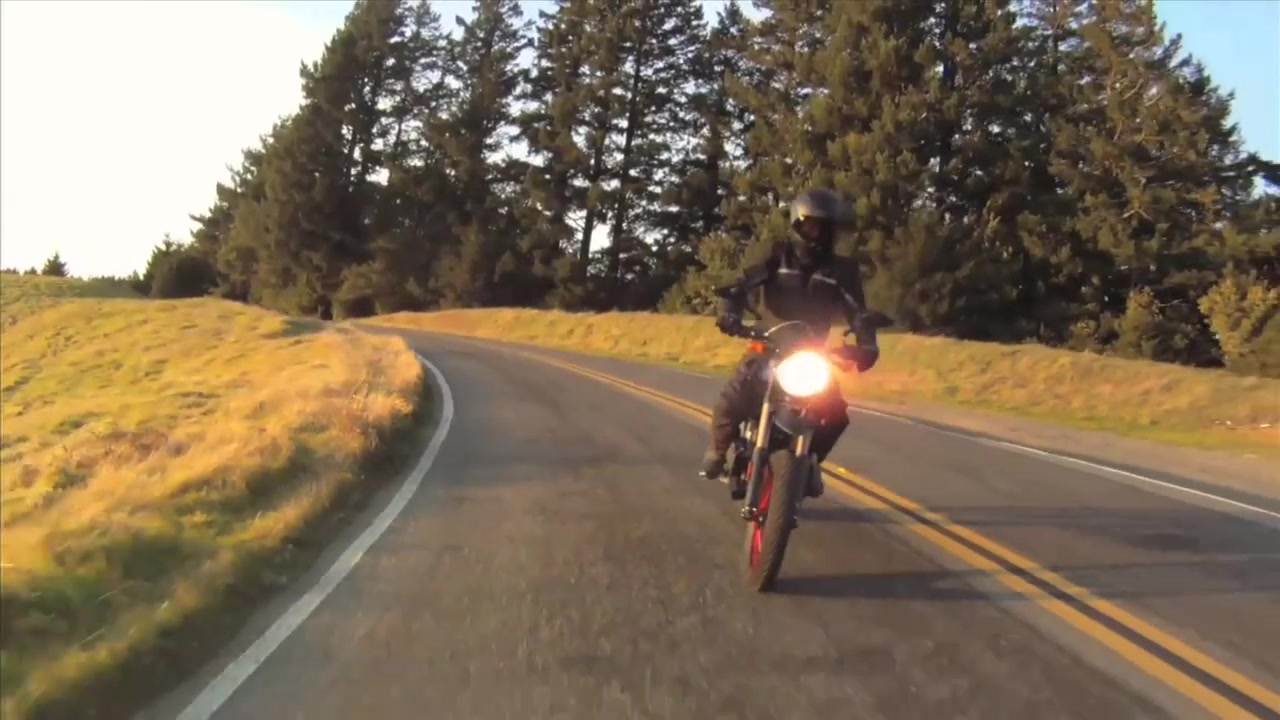motorbike: (715, 283, 895, 595)
